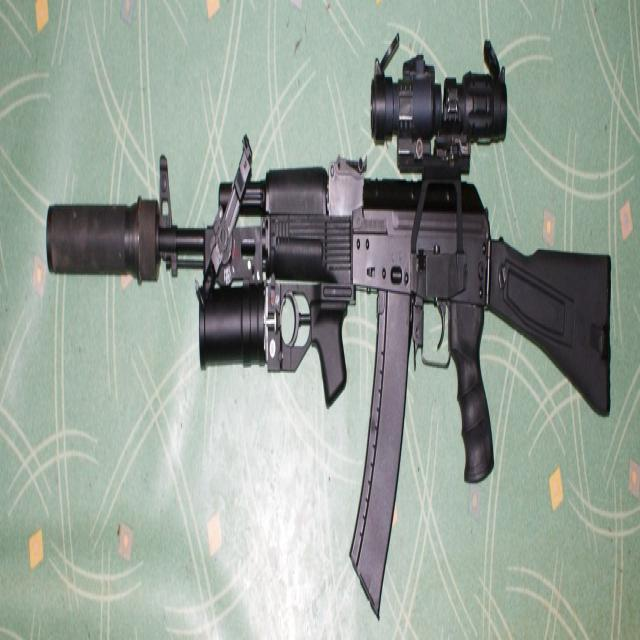firearm: (46, 30, 612, 613)
